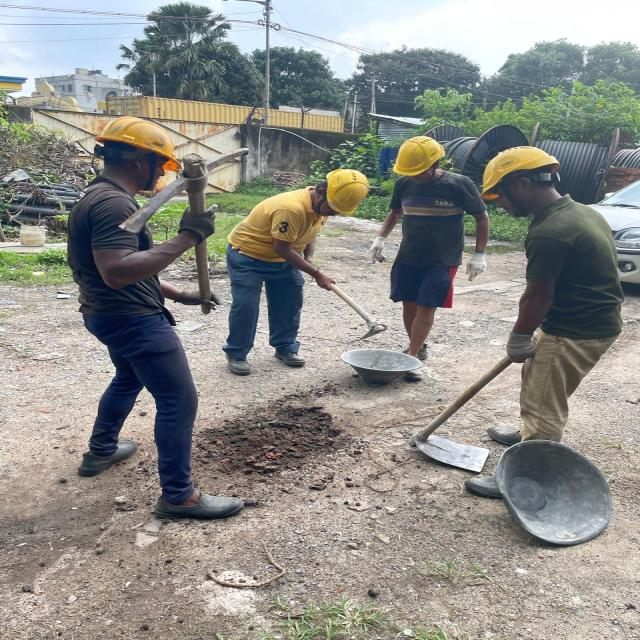helmet: (475, 137, 568, 210), (92, 106, 185, 178), (390, 133, 456, 178), (320, 165, 374, 217)
